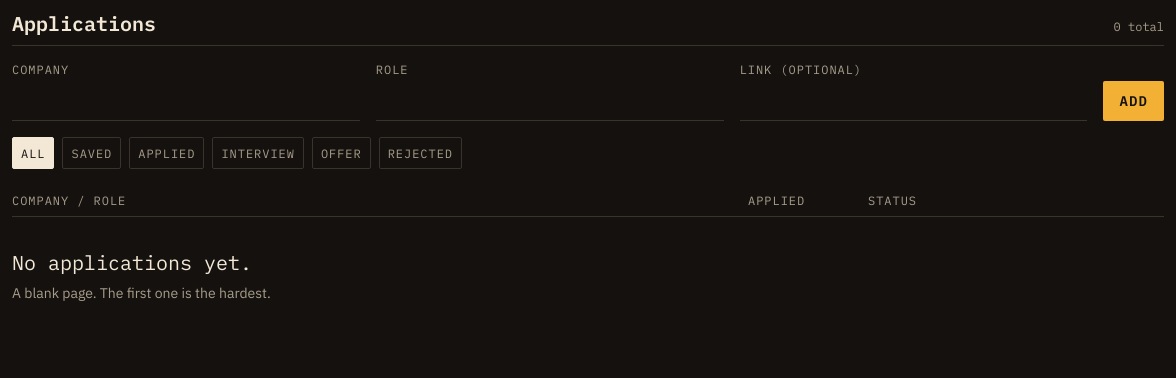
Test case: ApplicationsList create and delete › a rejected add shows the problem
Check: the text "No applications yet." is shown, box [12,249,252,276]
Type "Acme" into the field labelled "Company". click: (186, 101)
box: [12,81,360,121]
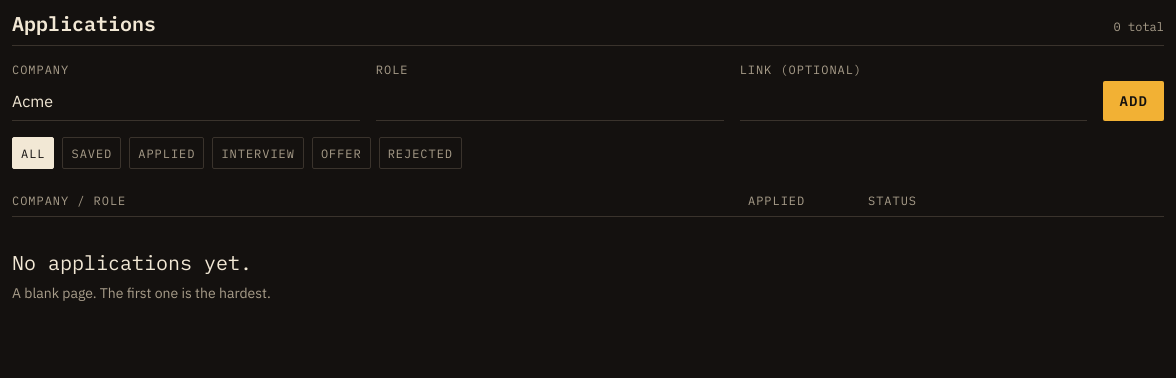
Type "Engineer" into the field labelled "Role". click: (550, 101)
box: [376,81,724,121]
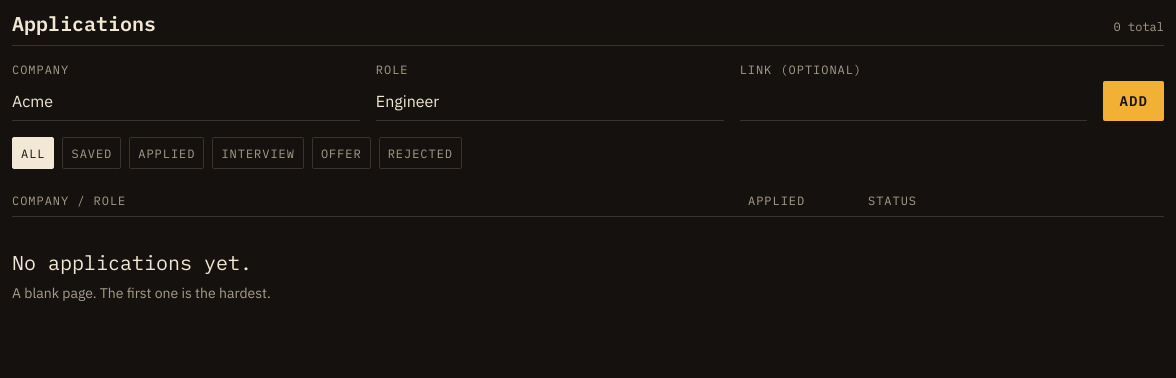
Click the button "Add". click: (1134, 101)
box: [1103,81,1164,121]
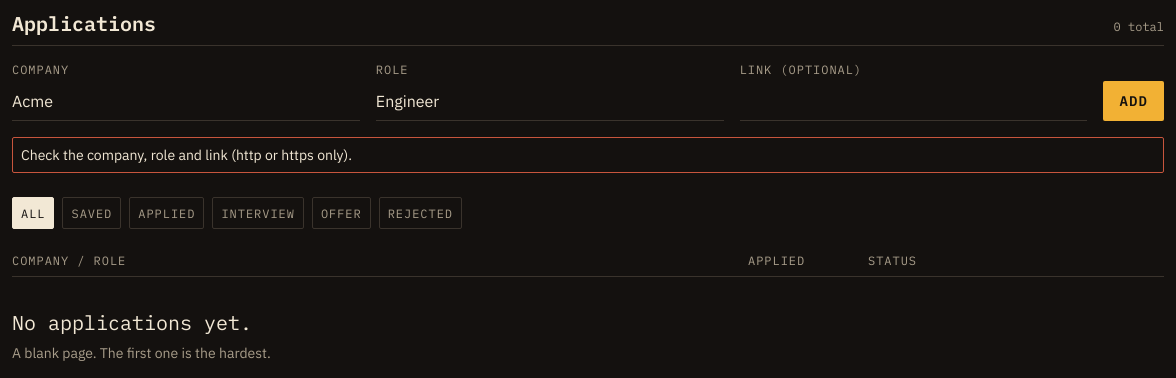
Check: the message shows "Check the company", box [21,146,352,164]
